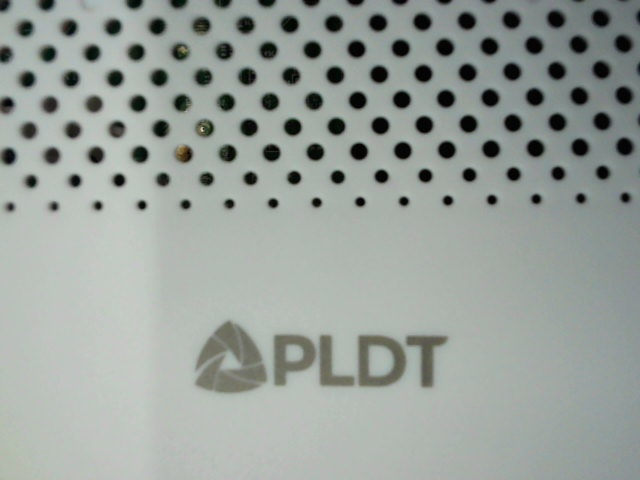BH_PLDT: (177, 311, 461, 419)
